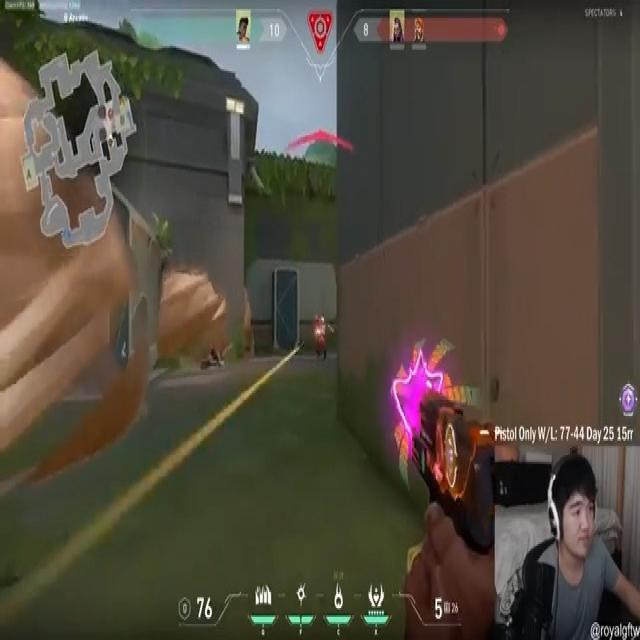enemy: (312, 313, 330, 364)
